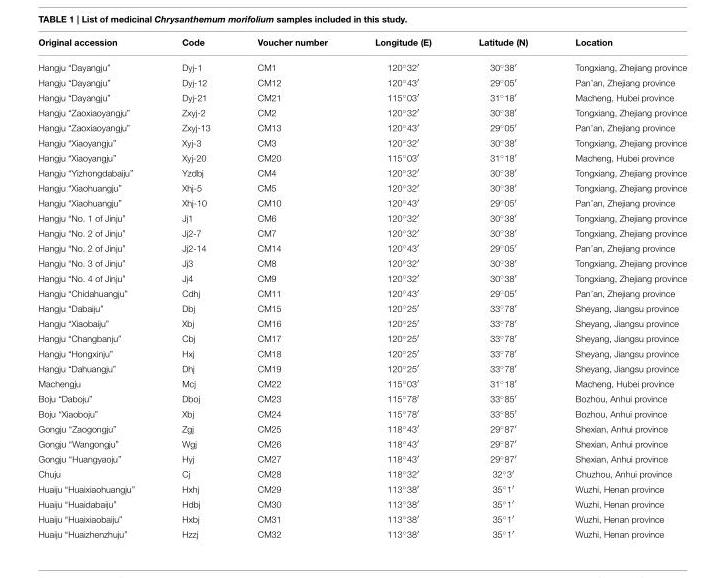table: (37, 37, 686, 538)
table column: (550, 37, 686, 538), (37, 37, 157, 538), (233, 37, 350, 538), (350, 37, 454, 538), (454, 37, 550, 538), (157, 37, 233, 538)
table column header: (37, 37, 686, 54)
table row: (37, 54, 686, 74), (37, 37, 686, 54), (37, 209, 686, 225), (37, 480, 686, 496), (37, 74, 686, 89), (37, 89, 686, 104), (37, 104, 686, 119), (37, 119, 686, 134), (37, 134, 686, 149), (37, 149, 686, 164), (37, 164, 686, 179), (37, 179, 686, 194), (37, 194, 686, 209), (37, 225, 686, 240), (37, 240, 686, 255), (37, 255, 686, 270), (37, 270, 686, 285), (37, 285, 686, 300), (37, 300, 686, 315), (37, 315, 686, 330), (37, 330, 686, 345), (37, 345, 686, 360), (37, 360, 686, 375), (37, 375, 686, 390), (37, 390, 686, 405), (37, 405, 686, 420), (37, 420, 686, 435), (37, 435, 686, 450), (37, 450, 686, 465), (37, 465, 686, 480), (37, 496, 686, 511), (37, 511, 686, 526), (37, 526, 686, 538)
